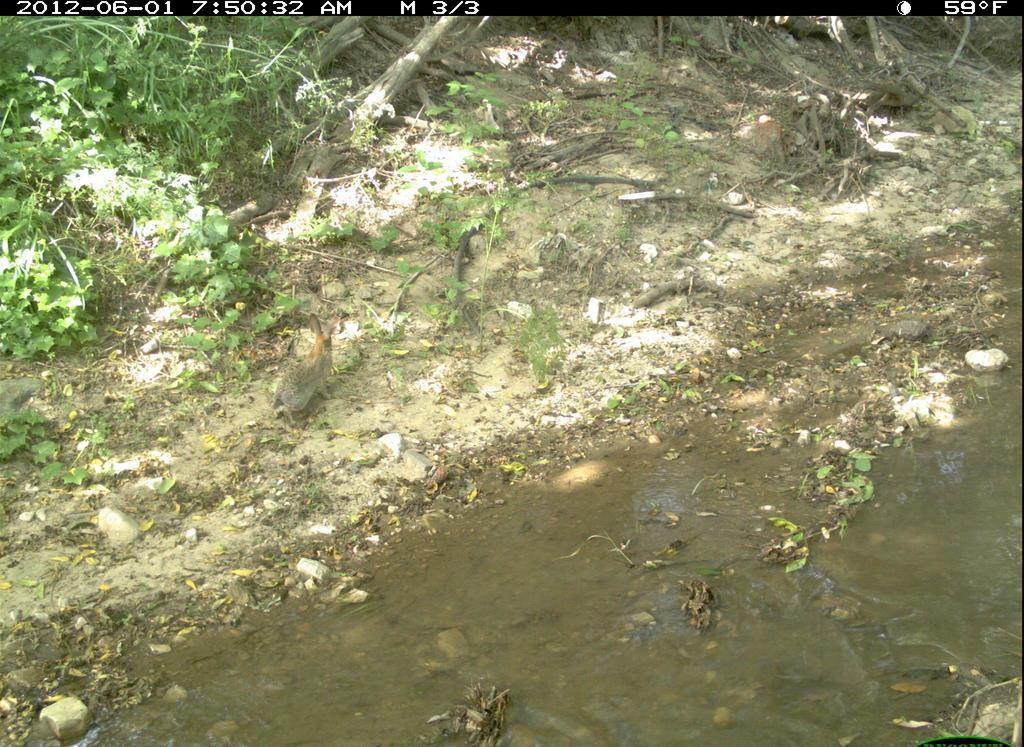rabbit: (267, 312, 347, 429)
